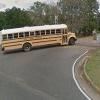Bus: (3, 19, 79, 55)
